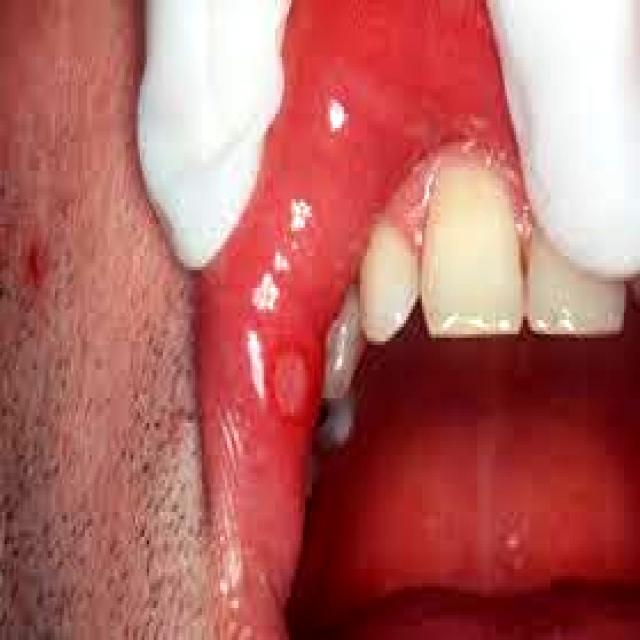ulcer: (273, 352, 305, 412)
